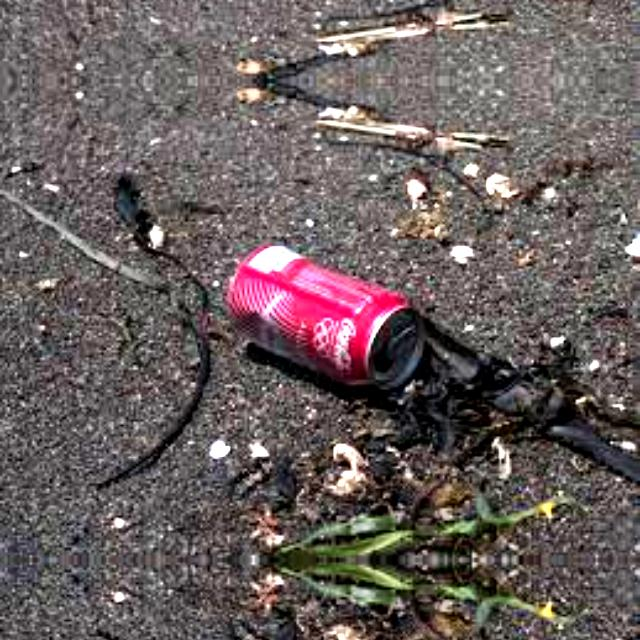Metal: (216, 235, 436, 412)
